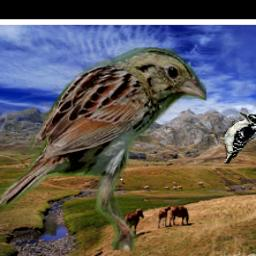Sparrow: (0, 48, 206, 251)
Woodpecker: (206, 112, 256, 164)
